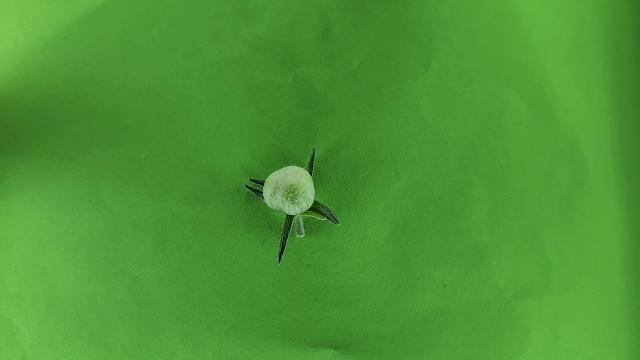Fruit Maturation: (262, 166, 316, 216)
